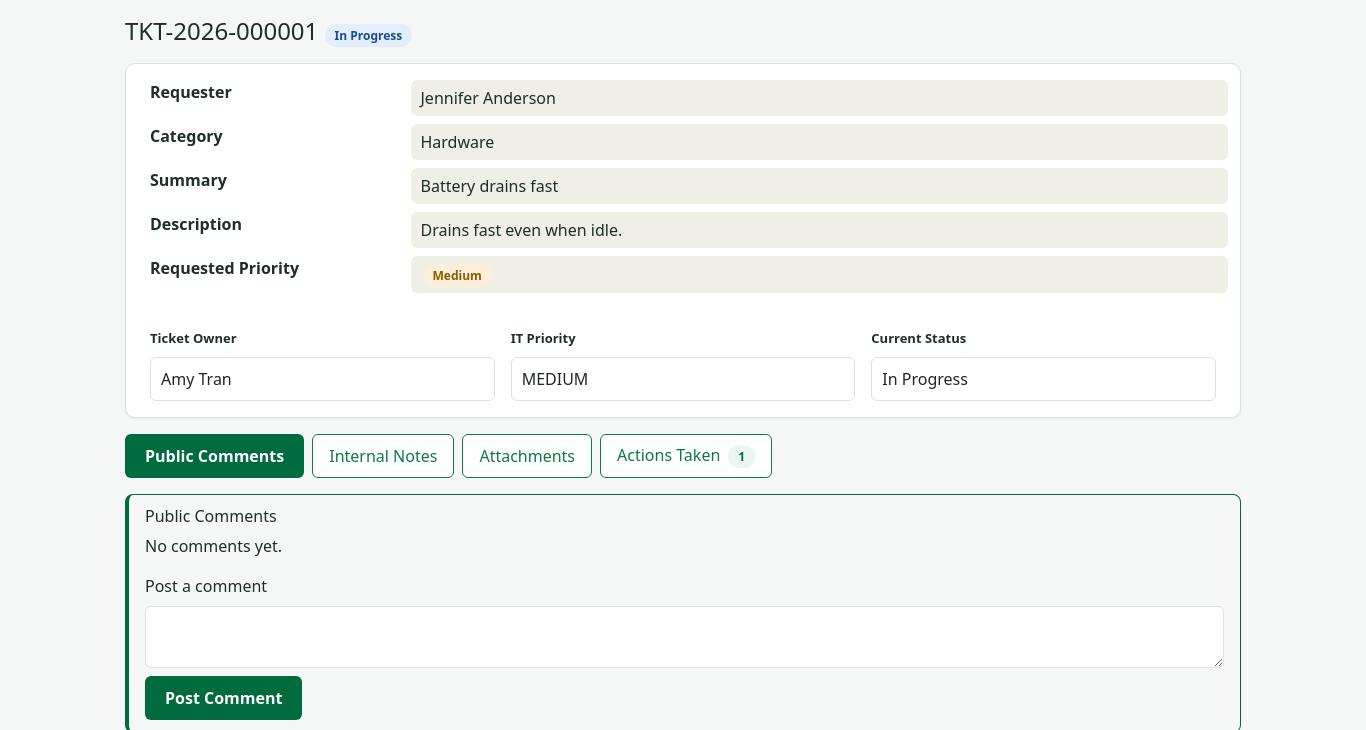
Test: Accessibility (A11Y-01) › Actions Taken area: tab semantics, live region, labelled fields and focus on first error
Expected: the heading "TKT-2026-000001 In Progress" is shown, [125,14,412,47]
Click the tab "Actions Taken 1" at (686, 456), box [600,434,772,478]
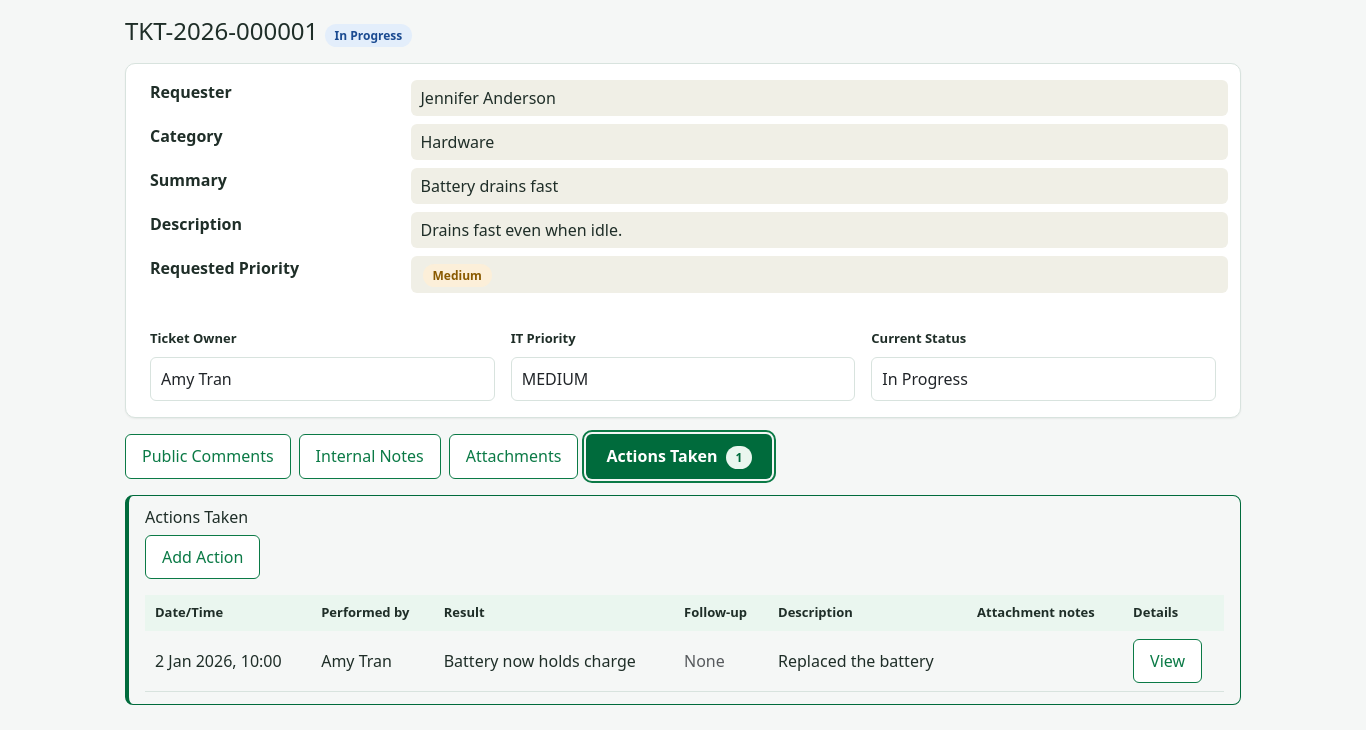
Expected: the tab "Actions Taken 1" is selected, [586,434,772,479]
Click the button "Add Action" at (203, 557), box [145,535,260,579]
(page scrolled)
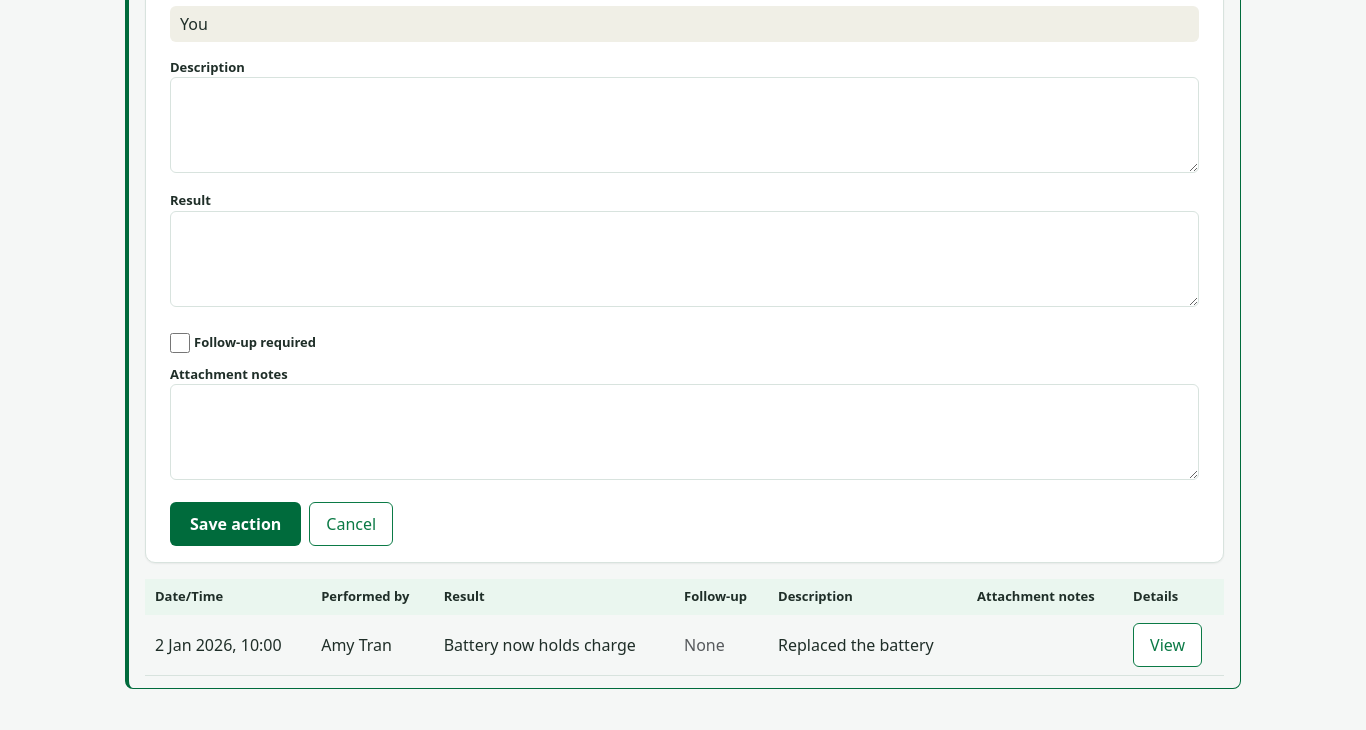
Expected: the text box labelled "Description" is shown, [170,77,1199,173]
Expected: the text box labelled "Result" is shown, [170,211,1199,307]
Expected: the text box labelled "Attachment notes" is shown, [170,384,1199,480]
Click the button "Save action" at (236, 524), box [170,502,301,546]
(page scrolled)
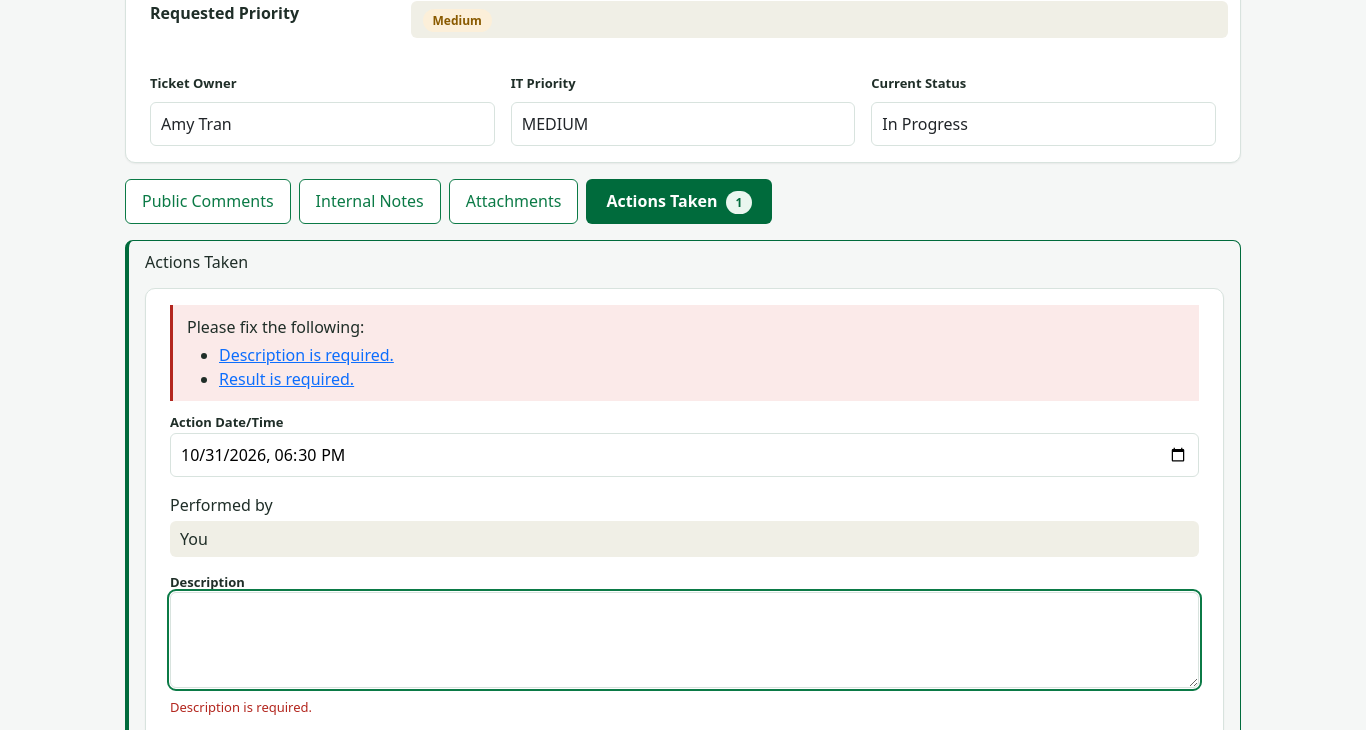
Expected: the message "Please fix the following: Description is required. Result is required." is shown, [170,305,1199,401]
